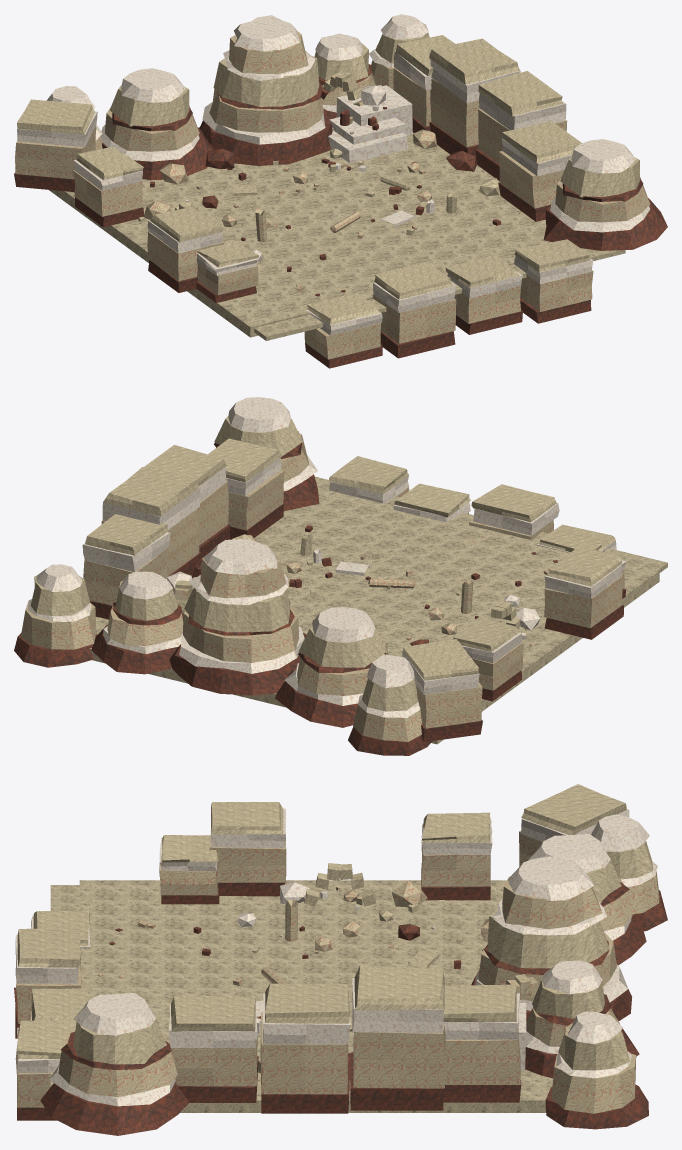
The model's file is rock_biome.glb.
3 renders of one model, top to bottom at view 1: azimuth 30°, elevation 25°; view 2: azimuth 150°, elevation 25°; view 3: azimuth 270°, elevation 25°, orthographic. The views are drawn at different scales.
Parts seen in each view (by area): view 1: Ground_Main, Butte_Main_L4, Butte_Main_L0, Butte_Main_L2, Butte_West_L0.001, Cliff_E_1_L3, Cliff_S_1_L1, Cliff_E_2_L3, Cliff_E_3_L1.001, Cliff_E_1_L1, Cliff_E_3_L3.001, Cliff_E_3_L3 (+63 smaller); view 2: Ground_Main, Butte_Main_L2, Butte_Main_L4, Cliff_E_1_L3, Butte_Main_L0, Cliff_W_1_L1, Butte_FarEast_L1, Cliff_E_3_L1.001, Butte_West_L4, Cliff_E_3_L3.001, Cliff_E_0_L3, Butte_Main_L6 (+48 smaller); view 3: Ground_Main, Cliff_E_1_L1, Cliff_E_2_L1, Butte_West_L0.001, Butte_Main_L4, Cliff_E_1_L3, Cliff_E_0_L1, Cliff_E_2_L3, Butte_West_L2.001, Cliff_E_3_L1, Butte_FarEast_L1, Cliff_E_3_L3.001 (+61 smaller).
Part boxes in pixels (<box>): Ground_Main: <box>49,132,581,337</box>; Butte_Main_L4: <box>213,56,319,106</box>; Butte_Main_L0: <box>199,108,333,165</box>; Butte_Main_L2: <box>209,89,323,132</box>; Butte_West_L0.001: <box>543,198,667,250</box>; Cliff_E_1_L3: <box>429,38,520,84</box>; Cliff_S_1_L1: <box>372,294,456,343</box>; Cliff_E_2_L3: <box>478,71,563,116</box>; Cliff_E_3_L1.001: <box>15,126,95,179</box>; Cliff_E_1_L1: <box>430,78,479,147</box>; Cliff_E_3_L3.001: <box>17,99,94,134</box>; Cliff_E_3_L3: <box>502,121,581,163</box>; Ground_Main: <box>89,487,659,744</box>; Butte_Main_L2: <box>183,606,299,662</box>; Butte_Main_L4: <box>184,587,290,632</box>; Cliff_E_1_L3: <box>103,467,198,516</box>; Butte_Main_L0: <box>169,633,306,695</box>; Cliff_W_1_L1: <box>544,578,622,628</box>; Butte_FarEast_L1: <box>21,601,96,649</box>; Cliff_E_3_L1.001: <box>416,682,482,728</box>; Butte_West_L4: <box>298,626,387,667</box>; Cliff_E_3_L3.001: <box>403,639,478,680</box>; Cliff_E_0_L3: <box>85,514,167,555</box>; Butte_Main_L6: <box>200,557,286,598</box>; Ground_Main: <box>79,880,553,1112</box>; Cliff_E_1_L1: <box>353,1025,445,1088</box>; Cliff_E_2_L1: <box>260,1012,348,1094</box>; Butte_West_L0.001: <box>40,1081,189,1135</box>; Butte_Main_L4: <box>487,908,609,968</box>; Cliff_E_1_L3: <box>354,965,444,1010</box>; Cliff_E_0_L1: <box>445,1031,520,1084</box>; Cliff_E_2_L3: <box>265,983,349,1023</box>; Butte_West_L2.001: <box>58,1036,177,1097</box>; Cliff_E_3_L1: <box>171,1036,257,1086</box>; Butte_FarEast_L1: <box>551,1053,636,1113</box>; Cliff_E_3_L3.001: <box>521,784,626,834</box>.
Bounding box in the file's own units: 56.33 × 17.63 × 56.48.
Materials: 13 (13 with a texture image).
